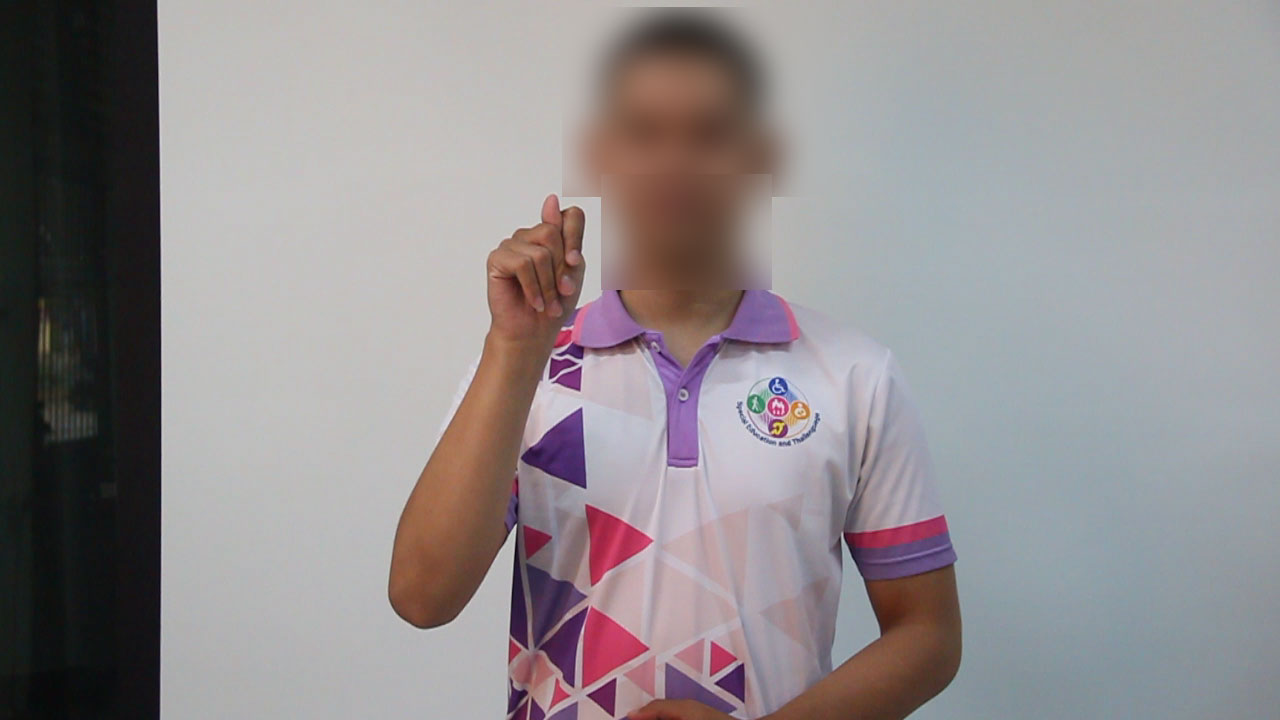tor: (472, 186, 598, 359)
